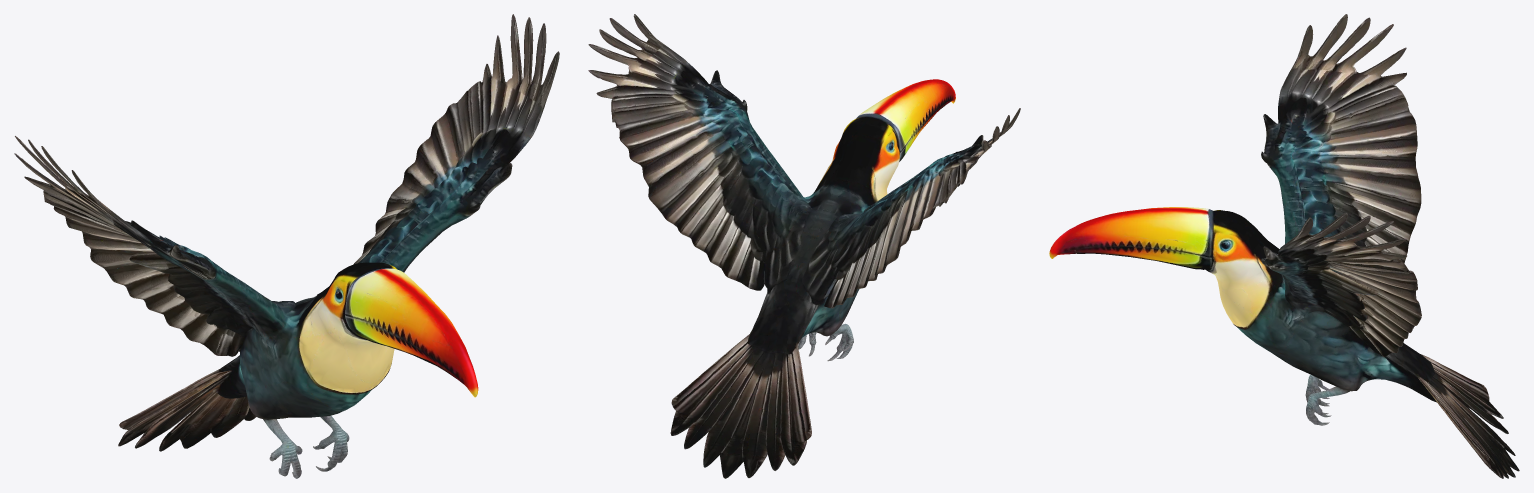
File: tucan.glb
3 renders of one model, left to right at view 1: azimuth 30°, elevation 25°; view 2: azimuth 150°, elevation 25°; view 3: azimuth 270°, elevation 25°, orthographic. The views are drawn at different scales.
Parts seen in each view (by area): view 1: Object_4; view 2: Object_4; view 3: Object_4.
Part boxes in pixels (left/top/right/bottom): Object_4: left=14, top=14, right=559, bottom=478; Object_4: left=588, top=14, right=1020, bottom=478; Object_4: left=1049, top=14, right=1519, bottom=478.
Bounding box in the file's own units: 1.9 × 1.59 × 1.9.
1 material, 1 textured.
